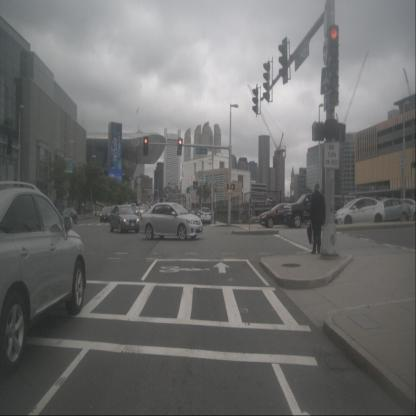human-pedestrian-adult: (306, 182, 326, 255)
vehicle-bus-rigid: (130, 206, 146, 216)
vehicle-car: (0, 184, 87, 379), (140, 202, 202, 242), (335, 197, 386, 225), (259, 202, 307, 228), (108, 205, 140, 234), (375, 198, 411, 223), (388, 198, 416, 222), (60, 206, 78, 227), (100, 205, 113, 224), (200, 207, 212, 226), (196, 210, 205, 222), (195, 208, 203, 219), (267, 197, 276, 205)
vehicle-truck: (283, 192, 333, 228)
